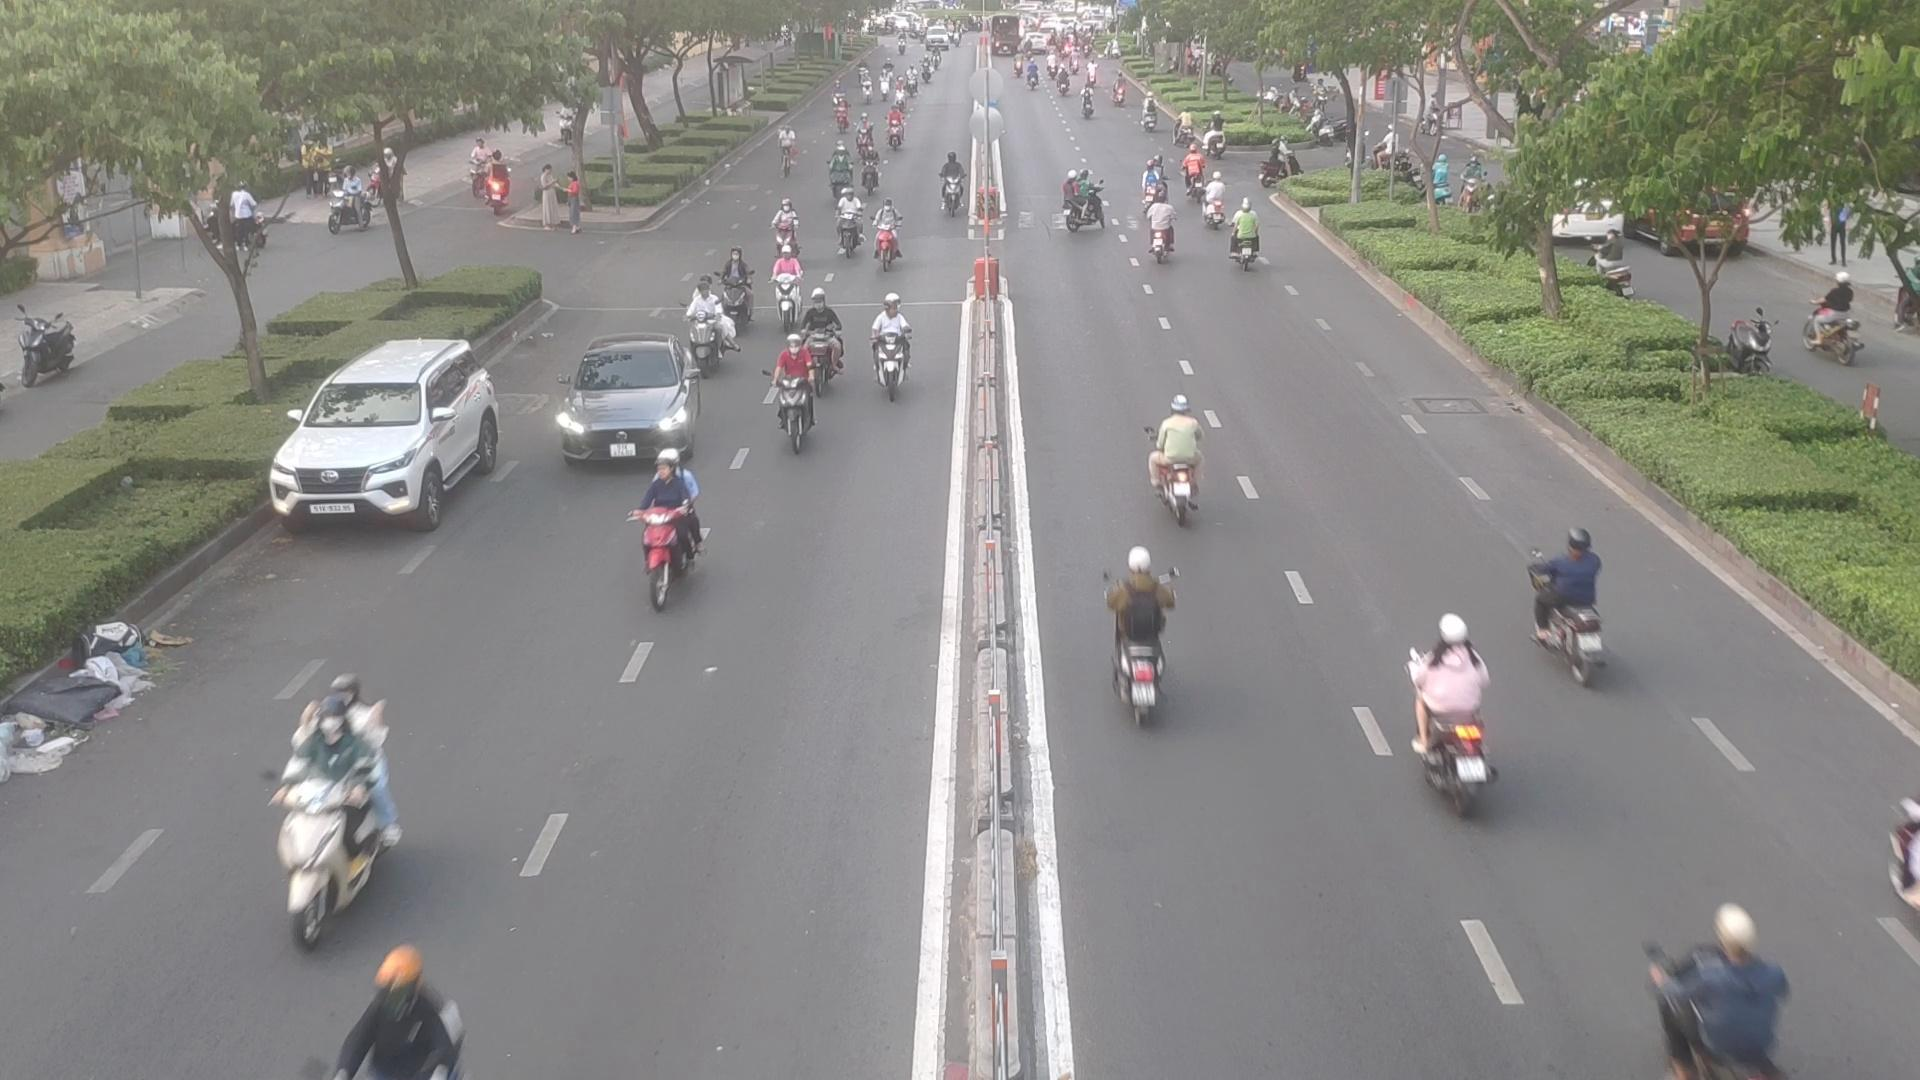car: (272, 339, 516, 531), (551, 339, 705, 464)
motorbike: (262, 676, 407, 934), (1650, 907, 1797, 1080), (1407, 613, 1505, 804), (328, 953, 471, 1080), (1097, 553, 1183, 727), (621, 454, 709, 603), (1526, 529, 1611, 675), (767, 334, 833, 451), (1145, 406, 1209, 522), (803, 285, 847, 396), (686, 291, 742, 373), (865, 305, 914, 400), (1054, 167, 1106, 235), (713, 252, 760, 320), (1228, 206, 1269, 272), (767, 251, 804, 313), (769, 202, 800, 266), (938, 154, 971, 214), (835, 200, 866, 261), (1150, 198, 1178, 265), (872, 218, 905, 272), (857, 140, 884, 193), (832, 142, 849, 204), (1209, 171, 1226, 231), (1180, 146, 1199, 187), (886, 105, 902, 152), (1146, 166, 1163, 206), (856, 113, 870, 160)
